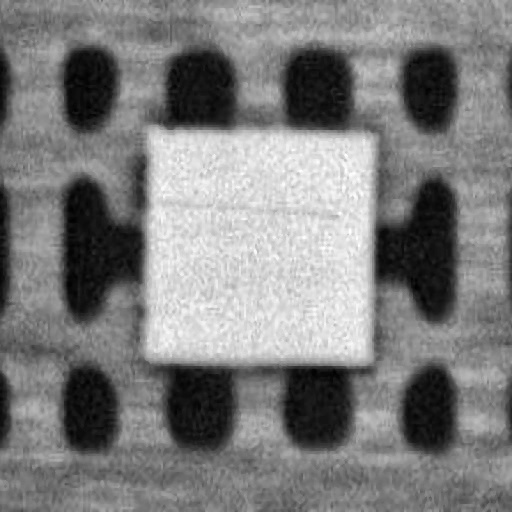DIE_CRACK: (236, 133, 504, 142)
